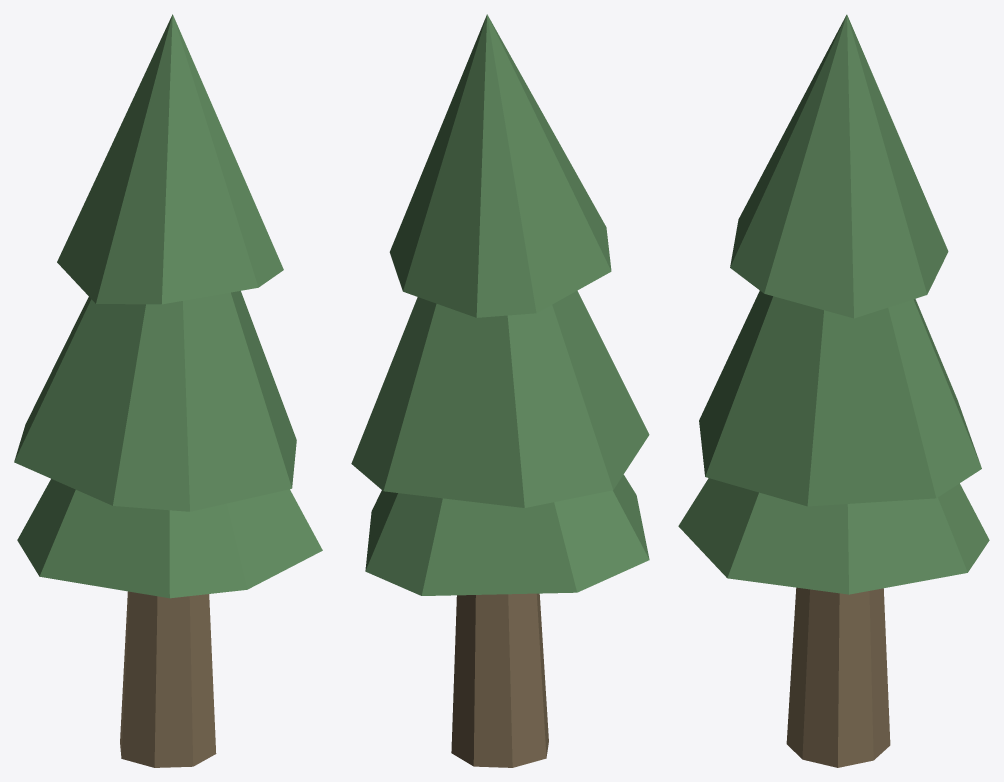
Rendered from Tree2.012.fbx.
3 views of the same model, side by side, from view 1: azimuth 30°, elevation 25°; view 2: azimuth 150°, elevation 25°; view 3: azimuth 270°, elevation 25° (orthographic).
Parts seen in each view (by area): view 1: Tree2.012; view 2: Tree2.012; view 3: Tree2.012.
Boxes of the visible parts, x1=… form: Tree2.012: x1=14, y1=14, x2=322, y2=767; Tree2.012: x1=351, y1=14, x2=649, y2=767; Tree2.012: x1=678, y1=14, x2=989, y2=767.
Size of the model in its own units: 134 by 358 by 137.
